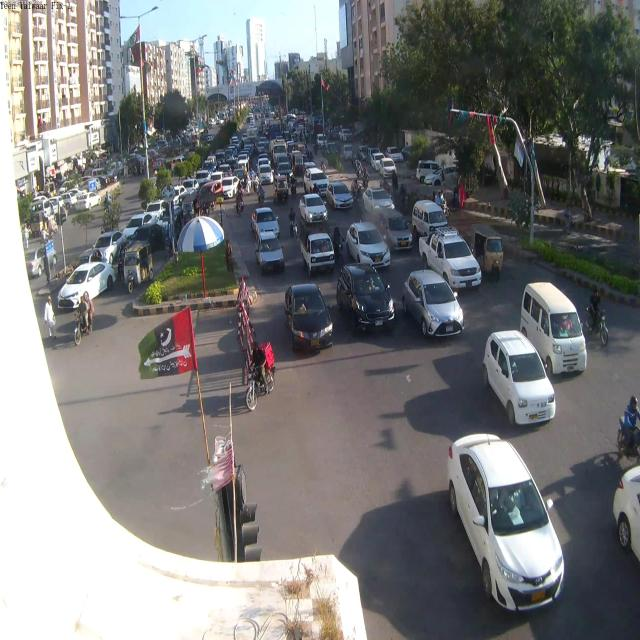car: (448, 433, 564, 615), (483, 330, 559, 429), (522, 279, 589, 386), (404, 270, 467, 338), (338, 264, 398, 332), (423, 228, 484, 290), (284, 280, 335, 352), (55, 261, 116, 312), (615, 462, 640, 568), (346, 221, 393, 268), (302, 231, 337, 276), (414, 202, 448, 241), (121, 212, 159, 246), (384, 210, 416, 250), (255, 235, 286, 274), (299, 193, 330, 224), (92, 230, 124, 260), (326, 182, 356, 210), (254, 208, 280, 238), (364, 187, 394, 213), (306, 169, 332, 198), (417, 160, 443, 186), (218, 178, 240, 200), (272, 152, 292, 175), (195, 168, 213, 186), (258, 166, 274, 185), (382, 156, 397, 176), (236, 153, 249, 169)
motorbike: (243, 358, 279, 414), (584, 301, 609, 347), (72, 304, 96, 344), (163, 234, 180, 260), (350, 187, 364, 203), (290, 218, 299, 241), (402, 194, 411, 216), (118, 258, 126, 282), (236, 197, 243, 218), (290, 181, 298, 198), (258, 190, 265, 208), (253, 179, 259, 195), (363, 175, 369, 190), (356, 166, 362, 180), (237, 187, 243, 200)
